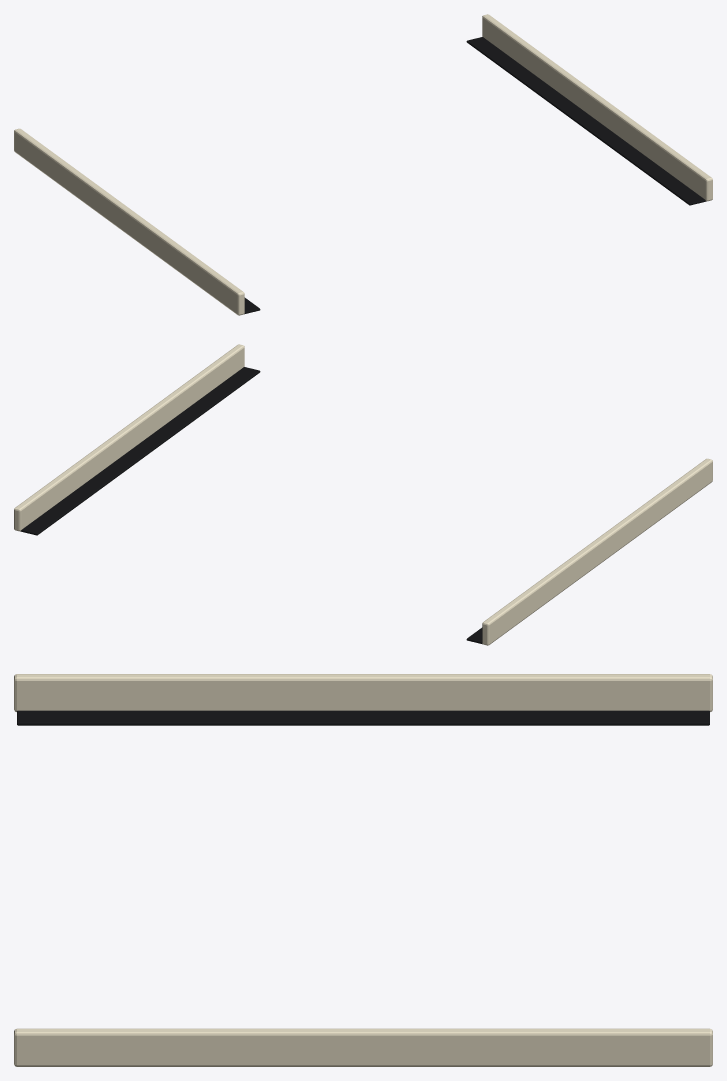
The model's file is sideStep_damd_l5d.glb.
The picture shows the model from 3 angles, top to bottom: view 1: azimuth 30°, elevation 25°; view 2: azimuth 150°, elevation 25°; view 3: azimuth 270°, elevation 25°; orthographic projection. The views are drawn at different scales.
Parts seen in each view (by area): view 1: panel-1, panel1, under1; view 2: panel-1, panel1, under1; view 3: panel1, panel-1, under-1.
Boxes of the visible parts, left/top/right/bottom form: panel-1: left=14, top=128, right=244, bottom=315; panel1: left=482, top=14, right=712, bottom=201; under1: left=466, top=37, right=706, bottom=205; panel-1: left=482, top=458, right=712, bottom=645; panel1: left=14, top=344, right=244, bottom=531; under1: left=20, top=367, right=260, bottom=535; panel1: left=14, top=1028, right=712, bottom=1066; panel-1: left=14, top=674, right=712, bottom=711; under-1: left=17, top=710, right=709, bottom=725.
Bounding box in the file's own units: 1.46 × 0.067 × 1.2.
